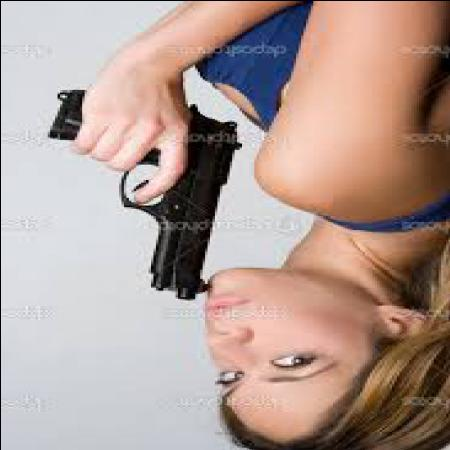Pistol: (54, 84, 238, 304)
